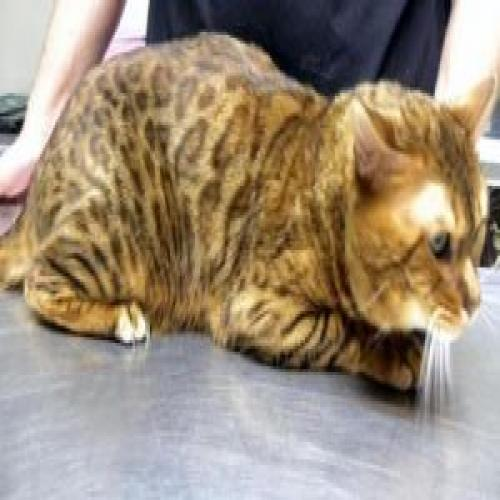cat-face: (350, 80, 499, 346)
